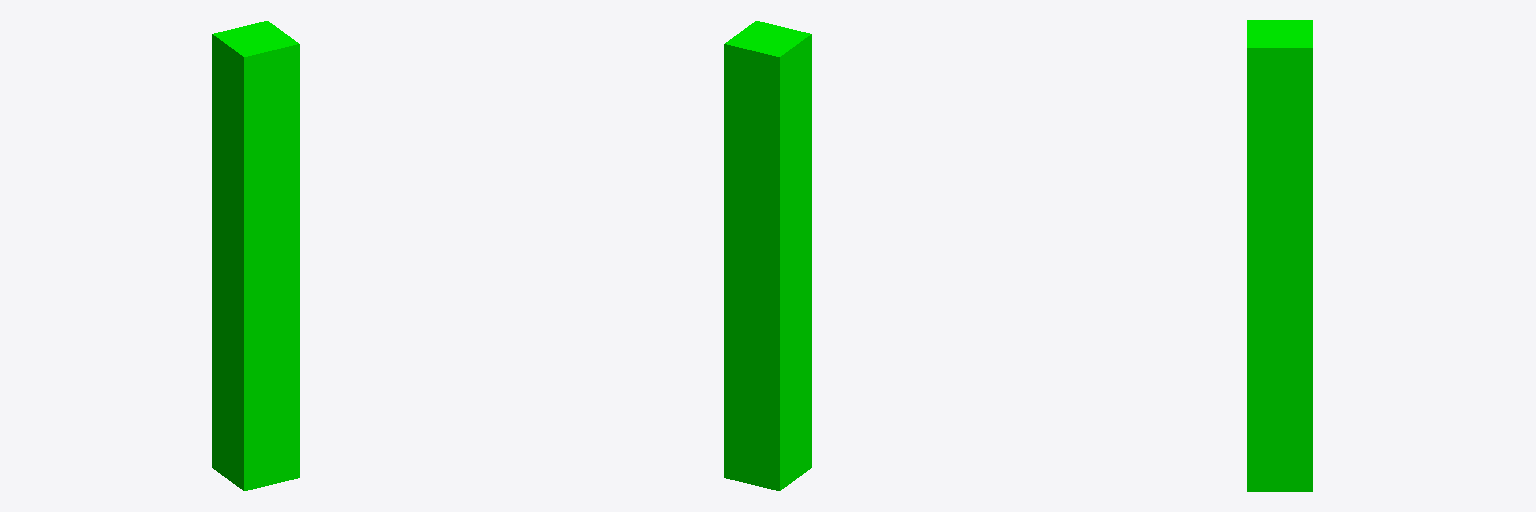
The robot description file, URDF, robot "box1":
<?xml version="1.0"?>
<robot name="box1">
	<link name="base">
	<inertial>
        	 <origin xyz="0 0 0" rpy="0 0 0"/>
        	 <mass value="1"/>
        	 <inertia ixx="0.000683333"  ixy="0"  ixz="0" iyy="0.000683333" iyz="0" izz="0.000683333" />
       </inertial>
	<visual>
		<origin xyz="0 0 0" rpy="0 0 0" />
		<geometry>
			<box size="0.002 0.002 0.015" />
		</geometry>
		<material>
			<color rgba="0 1 0 1" />
		</material>
		</visual>
  	 <collision>
            <origin xyz="0 0 0" rpy="0 0 0" />
            <geometry>
			<box size="0.002 0.002 0.016" />
            </geometry>
	    <material>
			<color rgba="0 1 0 1" />
	    </material>
        </collision>
	</link>
</robot>

--- Facts derived from the render (not from the file) ---
Views: 3 orthographic renders of the robot side by side, from view 1: azimuth 30°, elevation 25°; view 2: azimuth 150°, elevation 25°; view 3: azimuth 270°, elevation 25°.
Model box1 with 1 links and 0 joints (none), rooted at base, posed every joint at zero.
Links seen in each view (by area): view 1: base; view 2: base; view 3: base.
Boxes of the visible links, bbox=[...] form: base: bbox=[212, 21, 299, 490]; base: bbox=[724, 21, 811, 490]; base: bbox=[1247, 20, 1312, 491].
Bounding box of the posed robot: 0.002 × 0.002 × 0.015 m (x, y, z).
Geometry: primitives only (box / cylinder / sphere), no mesh files.
